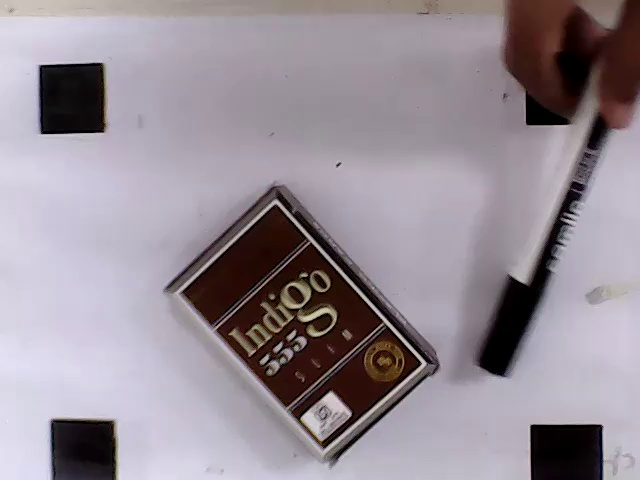BEX: (178, 202, 427, 451)
